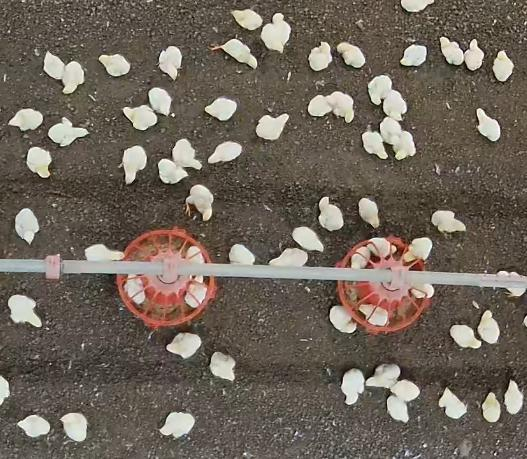chick: (213, 38, 259, 72), (261, 12, 294, 51), (184, 184, 216, 224), (48, 118, 90, 148), (6, 293, 42, 327), (171, 138, 204, 173), (119, 146, 149, 184), (339, 366, 366, 406), (159, 410, 196, 439), (256, 111, 290, 142), (166, 331, 202, 360), (356, 301, 391, 329), (317, 196, 344, 231), (120, 106, 159, 130), (362, 125, 388, 161), (438, 386, 467, 418), (25, 146, 53, 179), (209, 350, 236, 384), (478, 389, 504, 424), (15, 208, 40, 244), (61, 411, 89, 443), (158, 44, 182, 81), (17, 414, 52, 439), (476, 106, 501, 141), (433, 210, 466, 236), (369, 362, 400, 389), (293, 226, 325, 252), (330, 90, 356, 122), (7, 109, 44, 131), (336, 41, 365, 69), (330, 306, 357, 336), (438, 35, 464, 66), (449, 325, 481, 350), (269, 246, 309, 266), (204, 97, 236, 122), (62, 61, 86, 94), (209, 140, 242, 164), (384, 89, 408, 122), (404, 237, 433, 264), (367, 74, 393, 104), (391, 130, 416, 161), (464, 37, 486, 72), (98, 54, 130, 78), (184, 276, 207, 309), (479, 309, 501, 343), (230, 8, 264, 30), (84, 244, 125, 262), (124, 271, 146, 303), (502, 380, 522, 415), (158, 159, 187, 183), (391, 379, 421, 402), (308, 40, 331, 70), (359, 198, 381, 229), (44, 49, 65, 81), (147, 86, 171, 114), (365, 236, 396, 257), (501, 273, 527, 298), (379, 117, 402, 145), (401, 44, 429, 67), (227, 244, 256, 266), (492, 51, 514, 80), (307, 94, 334, 117), (387, 395, 409, 423), (410, 280, 435, 299), (185, 245, 205, 268), (400, 1, 436, 13)
rice: (116, 229, 217, 330), (337, 236, 429, 334)
